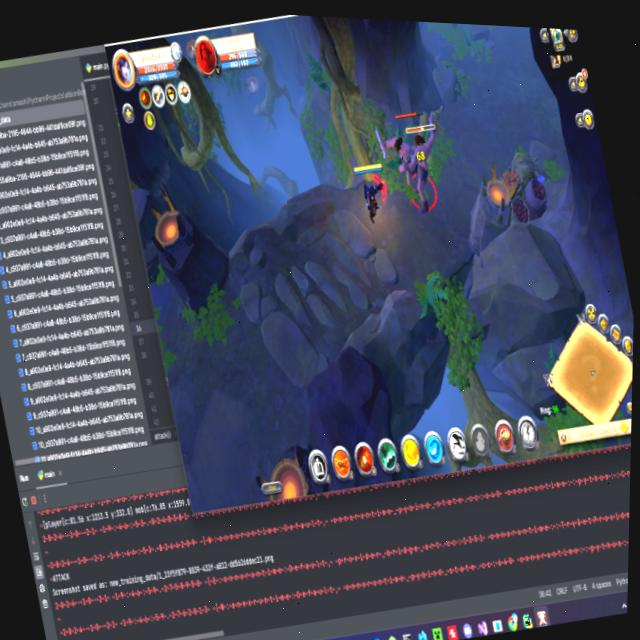ore: (365, 92, 455, 217)
red: (347, 156, 395, 235)
